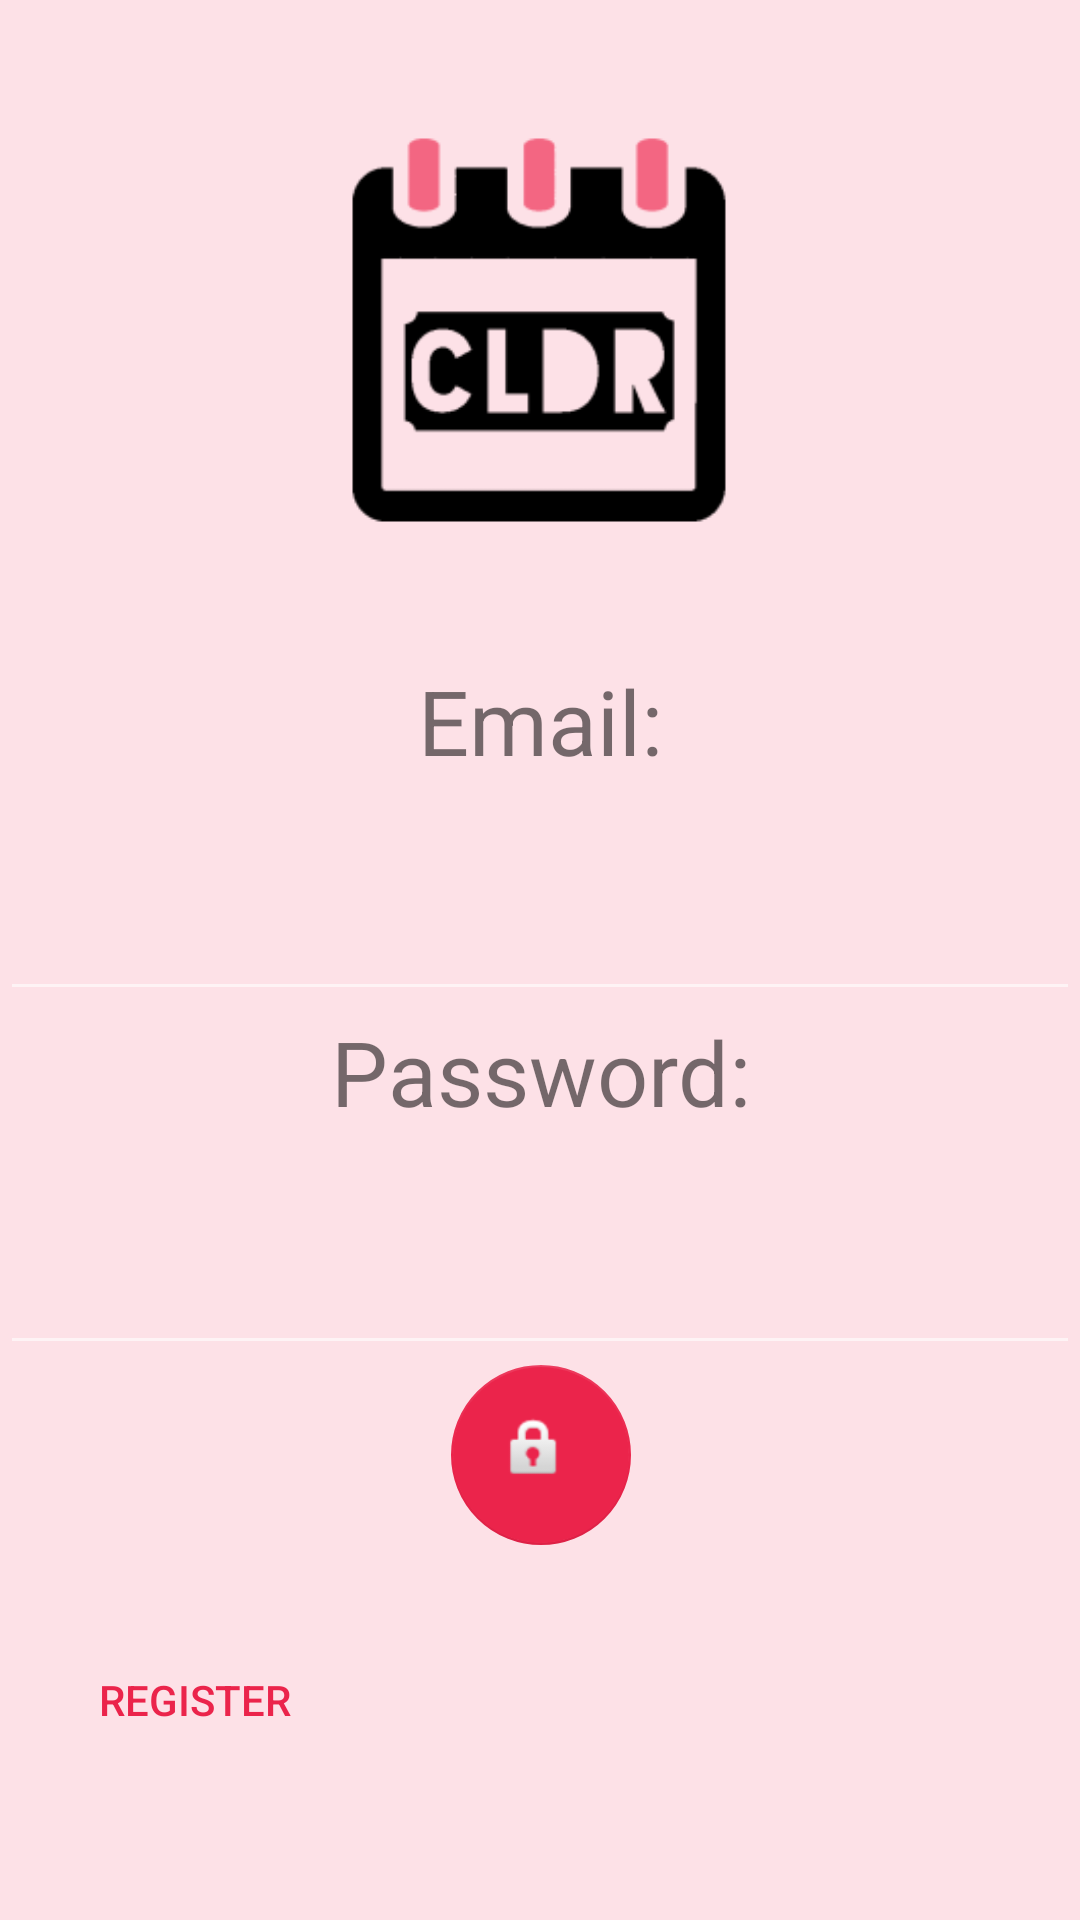

Where to tap for icons on this 1080×1920 app screen, as (x,y):
lock idle: (541,1455)
